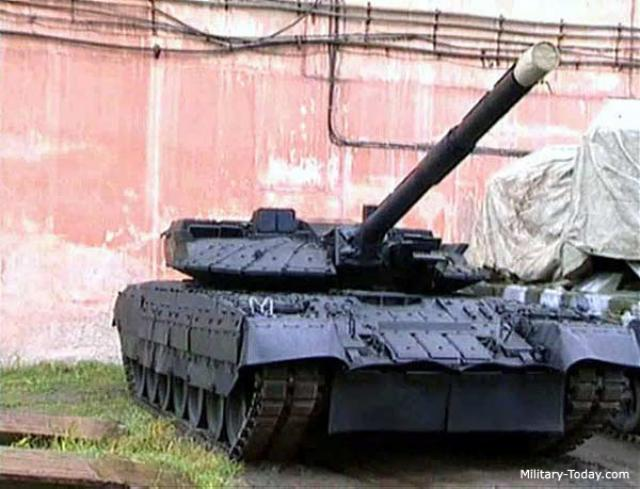tank: (115, 206, 561, 437)
